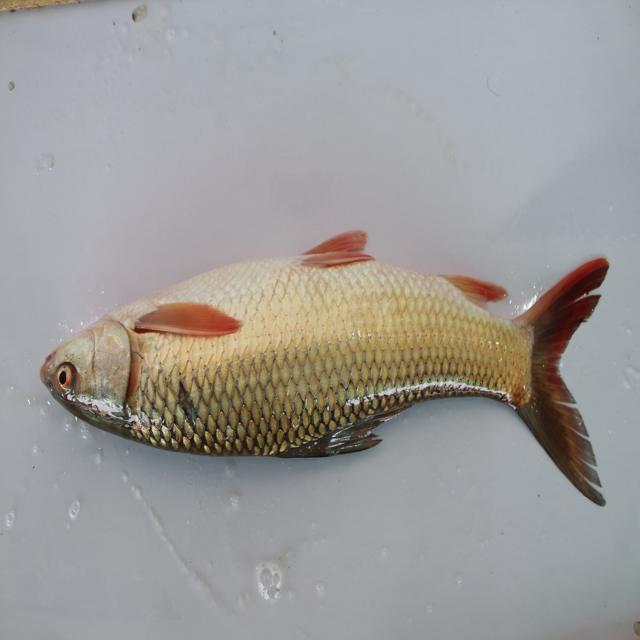Mori: (39, 221, 620, 517)
